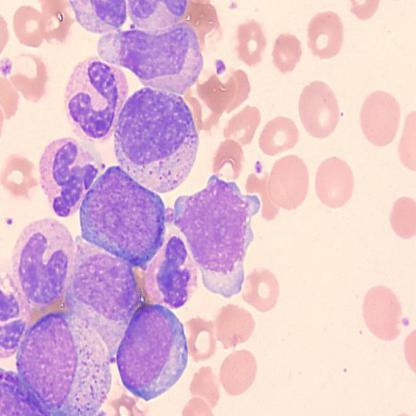Promyelocyte: (76, 164, 165, 267), (114, 303, 190, 403)
